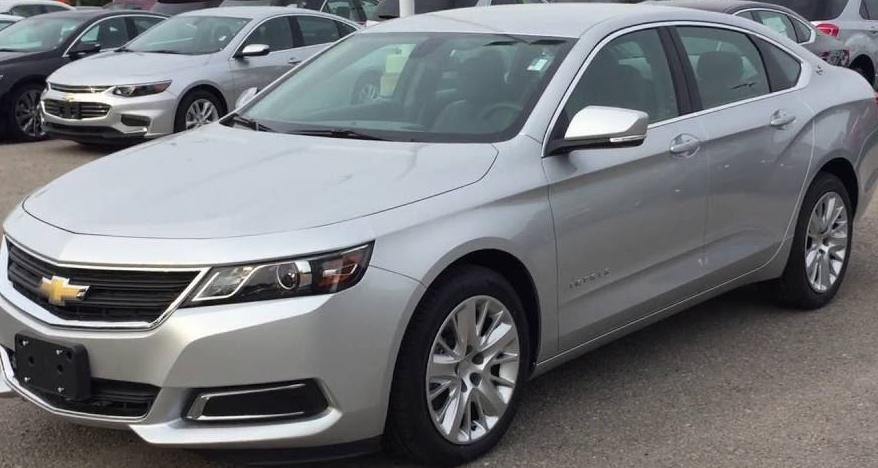Cars: (0, 5, 878, 465)
